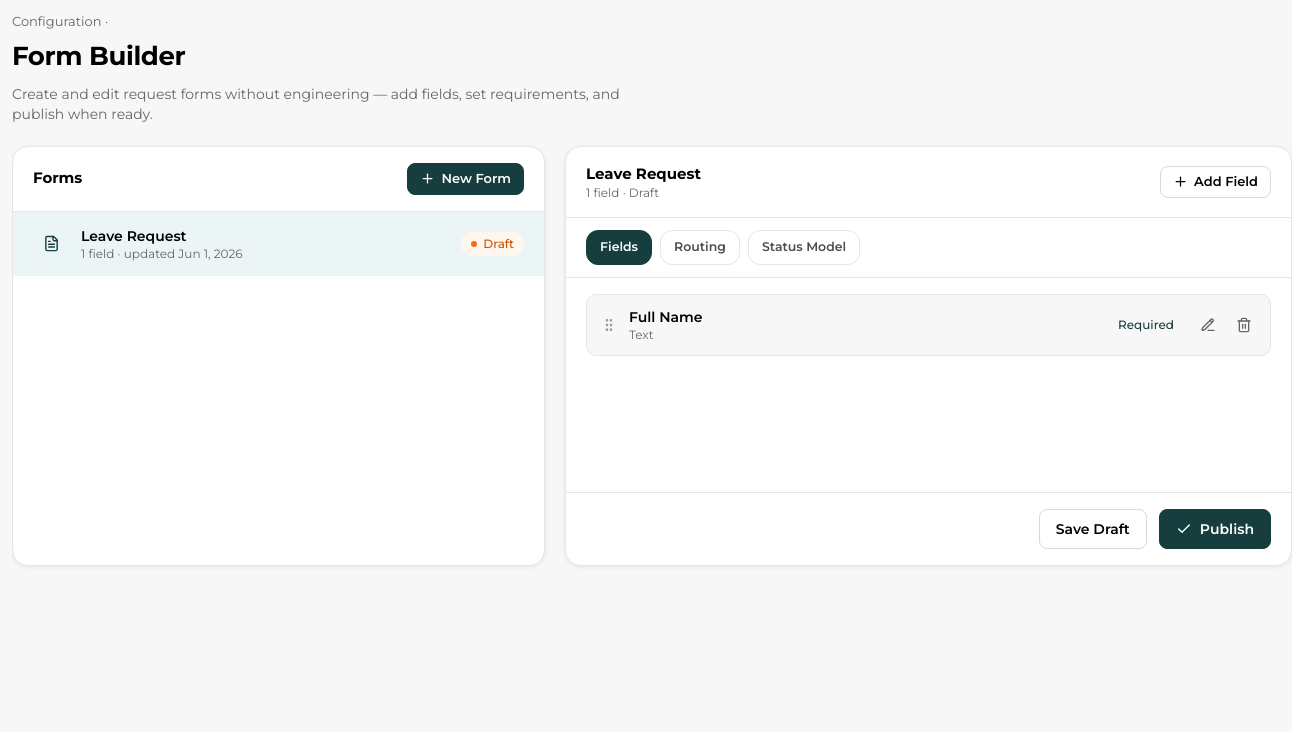
Test: toggling Required persists the change
Expected: the text "Full Name" is shown, top-left (629, 308), bottom-right (703, 326)
Click the button "Required". click: (1146, 325)
box: top-left (1108, 313), bottom-right (1184, 337)
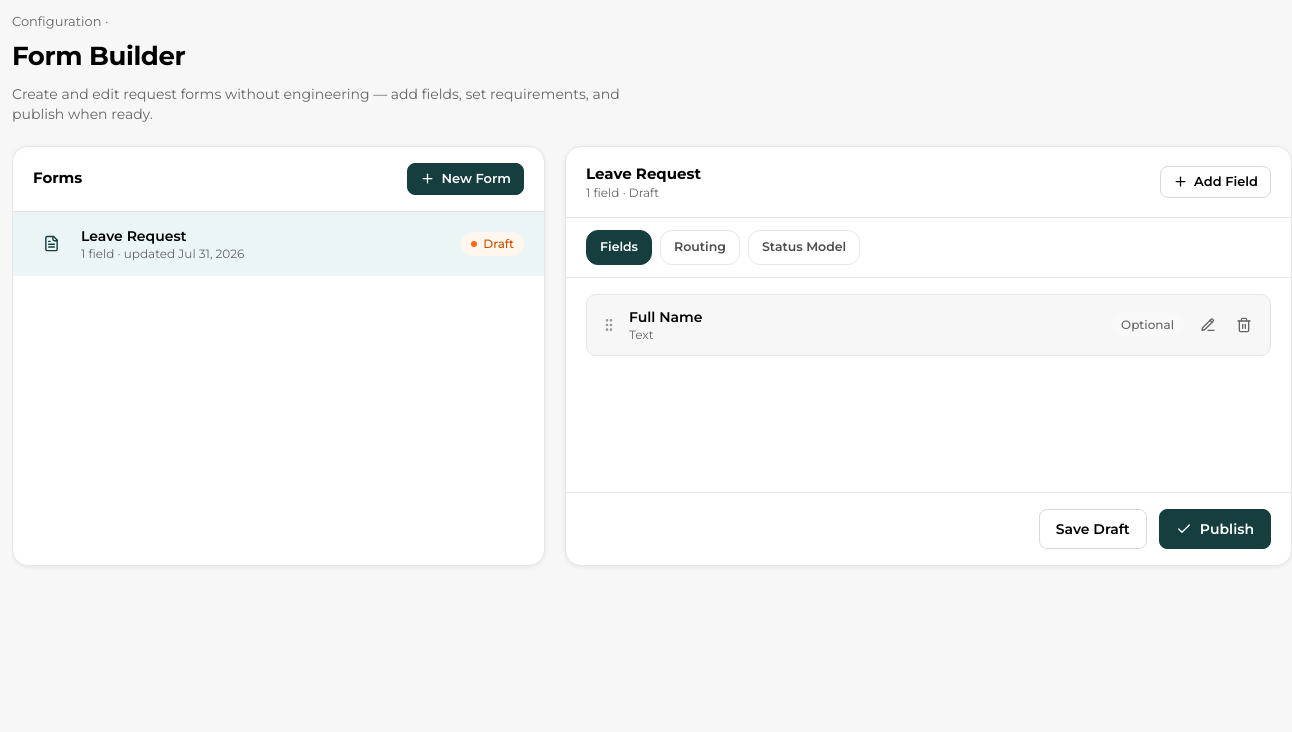
Expected: the button "Optional" is shown, top-left (1111, 313), bottom-right (1184, 337)
